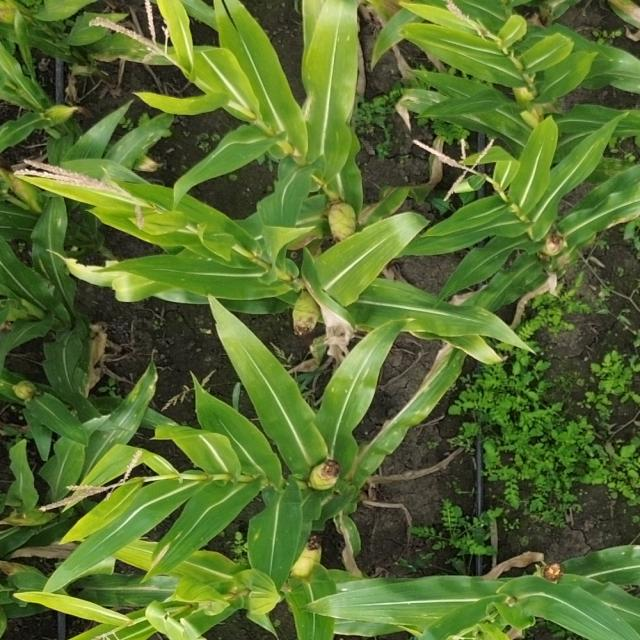gray-leaf-spot: (51, 366, 92, 410), (102, 397, 140, 443), (329, 366, 375, 400), (32, 258, 78, 290), (466, 305, 512, 335), (107, 36, 160, 59), (296, 92, 334, 124), (402, 88, 453, 111), (150, 530, 180, 568), (113, 130, 160, 154), (40, 210, 68, 243), (603, 154, 633, 181)
northern-leaf-blight: (356, 185, 402, 224)
southern-leaf-blight: (369, 430, 406, 466)
